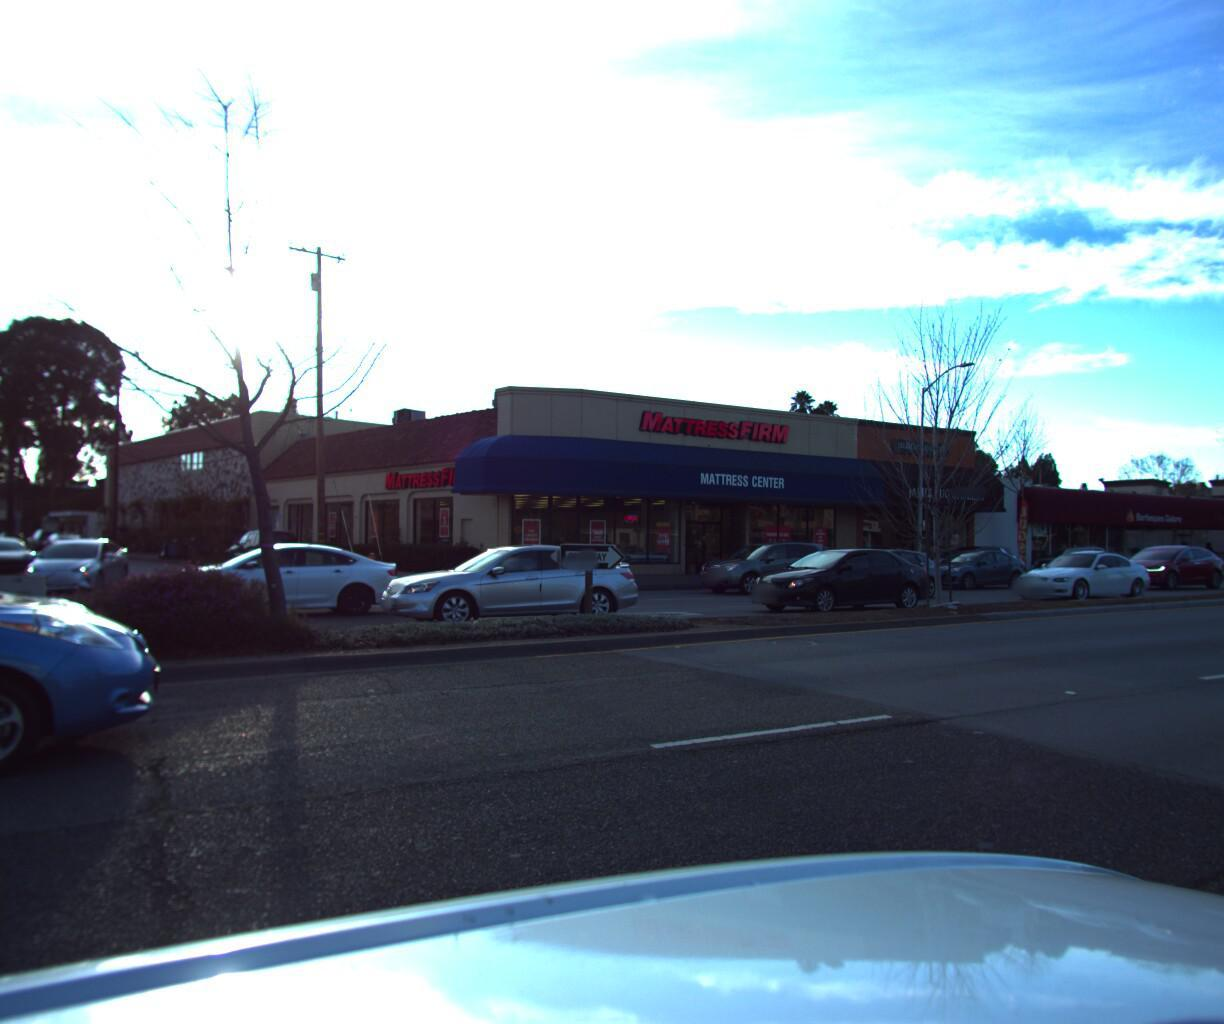car: (369, 533, 647, 635), (141, 538, 403, 625), (738, 539, 936, 613), (1003, 543, 1161, 600), (692, 536, 848, 593), (12, 535, 133, 601), (913, 540, 1038, 588), (1108, 540, 1224, 587), (218, 526, 310, 573), (1019, 538, 1122, 578), (45, 528, 91, 551), (22, 526, 66, 549)
